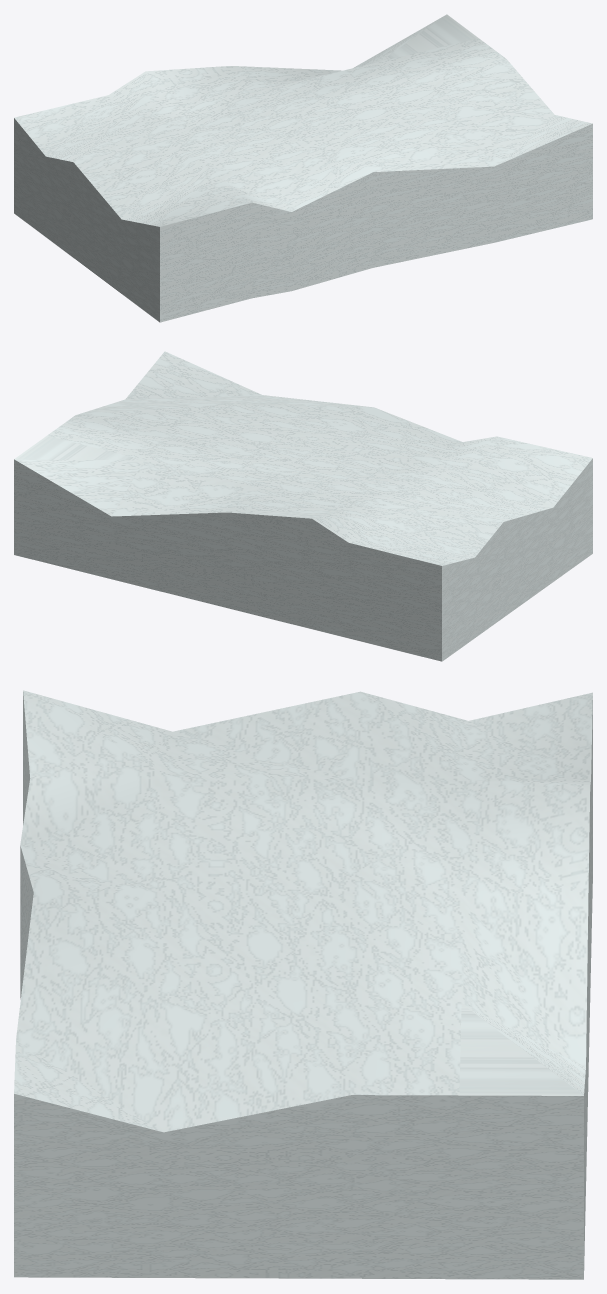
The model's file is pillow_new.fbx.
3 renders of one model, top to bottom at view 1: azimuth 30°, elevation 25°; view 2: azimuth 150°, elevation 25°; view 3: azimuth 270°, elevation 25°, orthographic. The views are drawn at different scales.
Parts seen in each view (by area): view 1: pCube3; view 2: pCube3; view 3: pCube3.
Boxes of the visible parts, x1,y1,x2,y2 form: pCube3: (14,14,592,322); pCube3: (14,351,592,661); pCube3: (14,690,592,1279).
Bounding box in the file's own units: 0.7321 × 0.1787 × 0.4415.
Materials: 1 (1 with a texture image).
